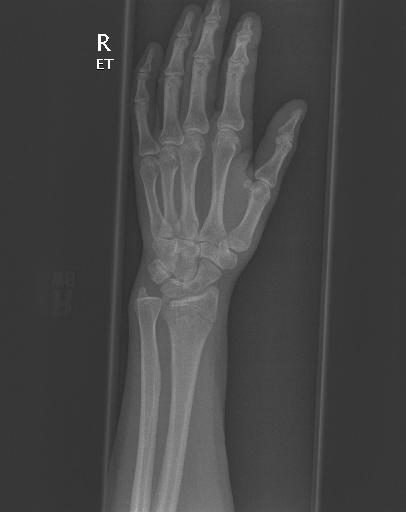fractured: (155, 300, 236, 338)
